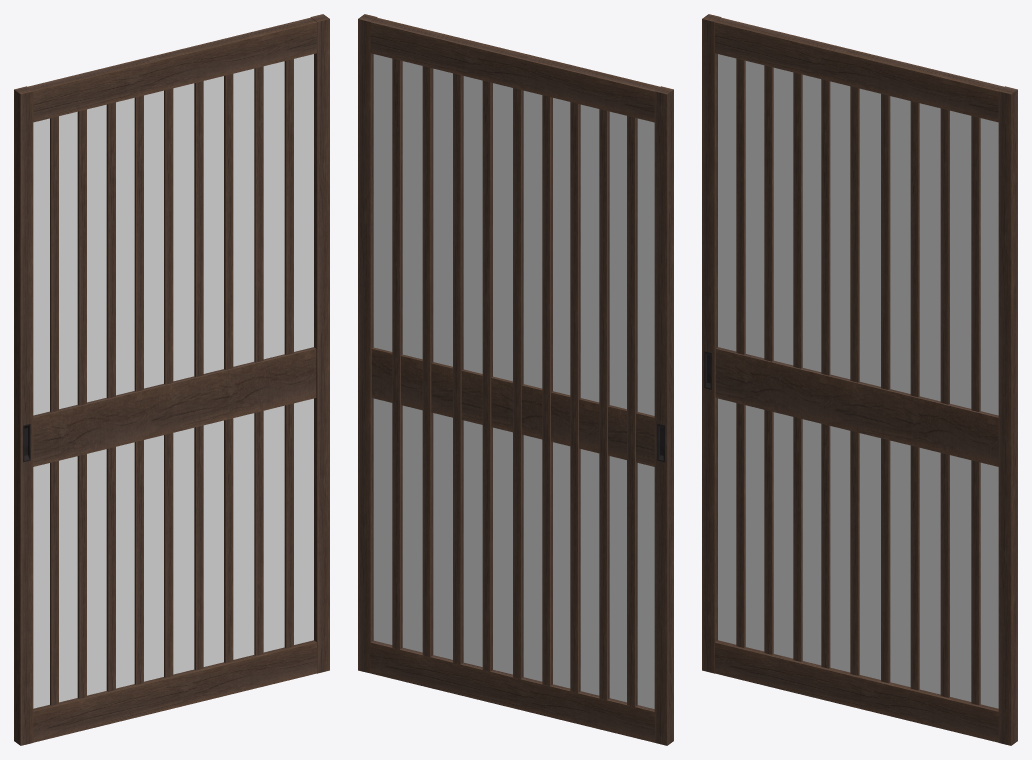
Rendered from hikido05br.fbx.
3 renders of one model, left to right at view 1: azimuth 30°, elevation 25°; view 2: azimuth 150°, elevation 25°; view 3: azimuth 330°, elevation 25°, orthographic.
Parts seen in each view (by area): view 1: hikido05br; view 2: hikido05br; view 3: hikido05br.
Part boxes in pixels (box(x1,y1,x2,y2)): hikido05br: box(14, 14, 329, 745); hikido05br: box(358, 14, 673, 745); hikido05br: box(702, 14, 1017, 745).
Size of the model in its own units: 110 by 221 by 4.25.
